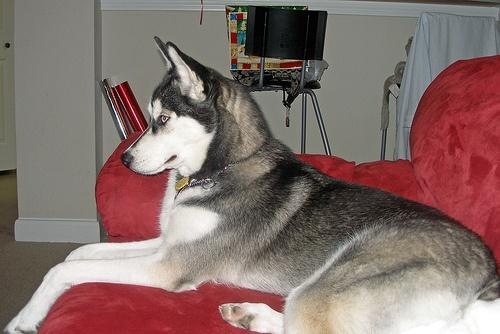dog: (4, 36, 500, 334)
